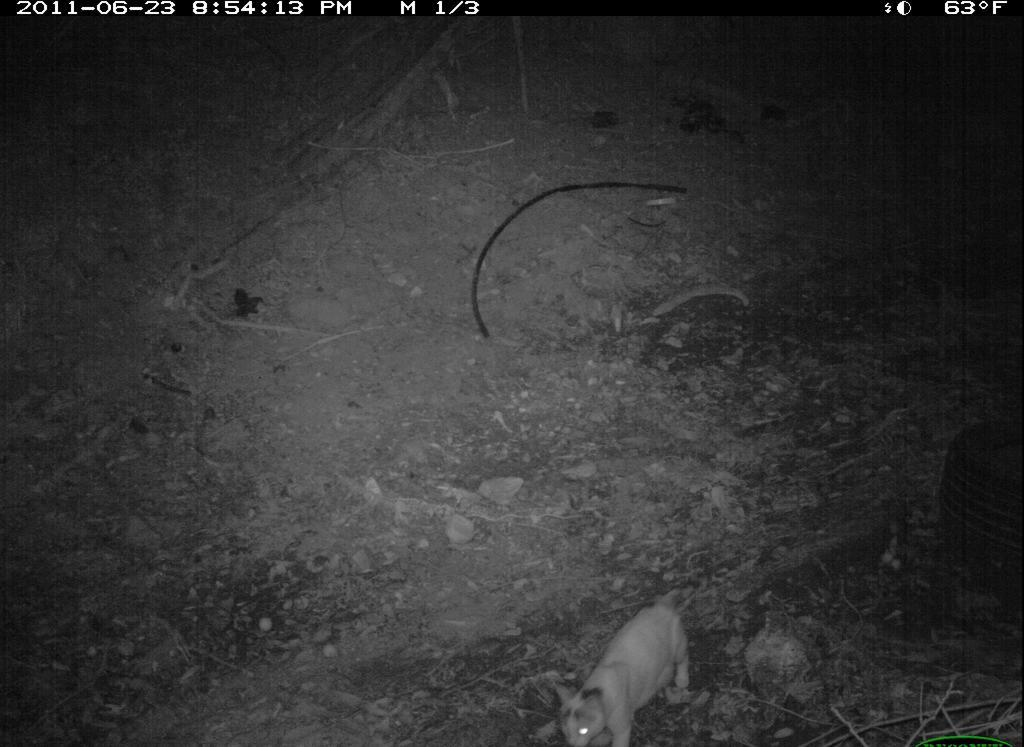cat: (529, 592, 706, 744)
